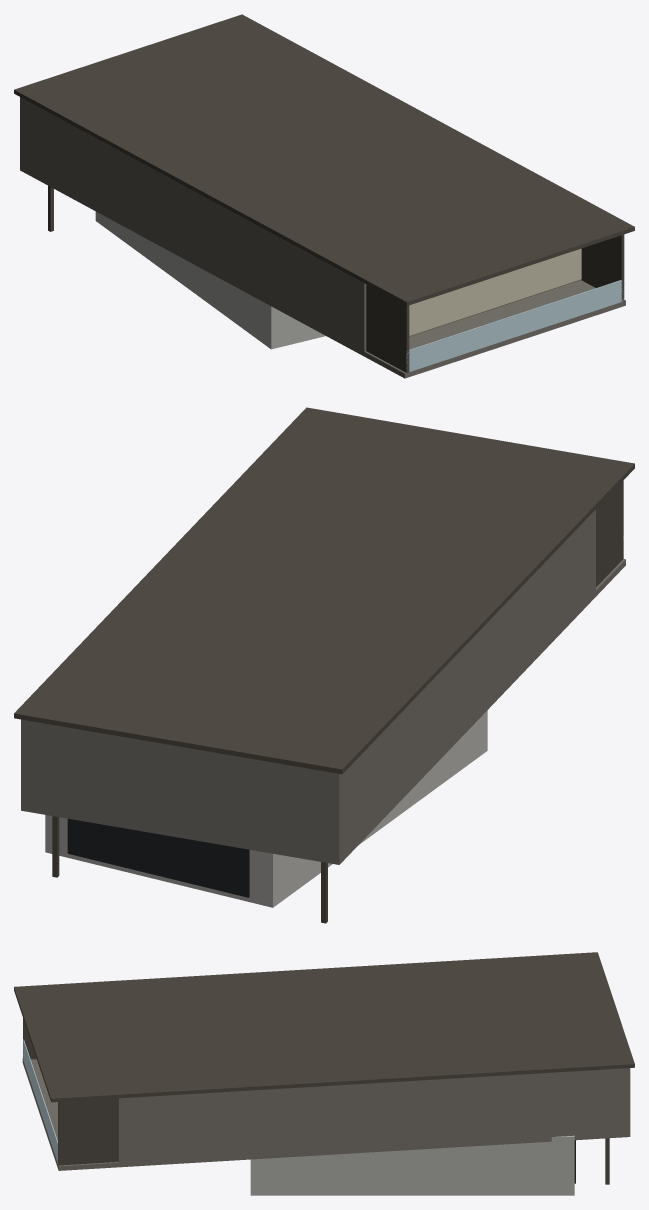
The model's file is sil_escapade_unit.glb.
The picture shows the model from 3 angles, top to bottom: view 1: azimuth 30°, elevation 25°; view 2: azimuth 150°, elevation 25°; view 3: azimuth 270°, elevation 25°; orthographic projection. The views are drawn at different scales.
Parts seen in each view (by area): view 1: silverstone-escapade-residence; view 2: silverstone-escapade-residence; view 3: silverstone-escapade-residence.
Boxes of the visible parts, x1,y1,x2,y2 form: silverstone-escapade-residence: [14, 14, 634, 378]; silverstone-escapade-residence: [14, 407, 634, 923]; silverstone-escapade-residence: [14, 952, 634, 1195].
Size of the model in its own units: 17.12 by 7 by 30.65.
